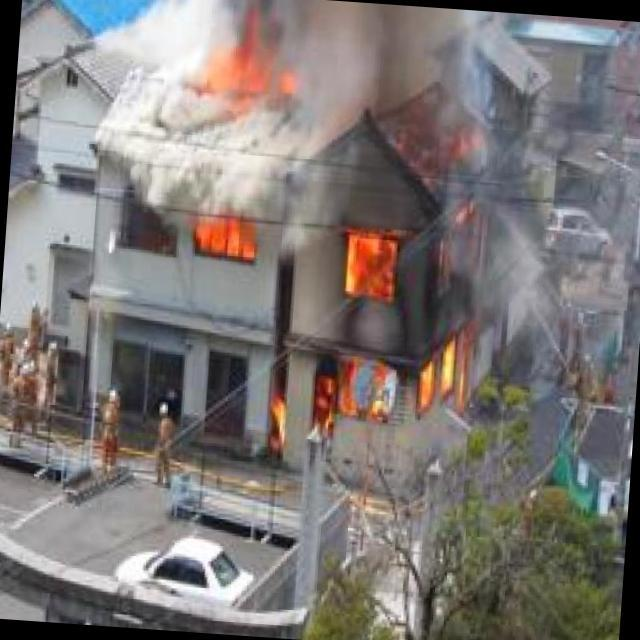Fire: (310, 173, 493, 436), (186, 17, 309, 103), (188, 214, 259, 269)
